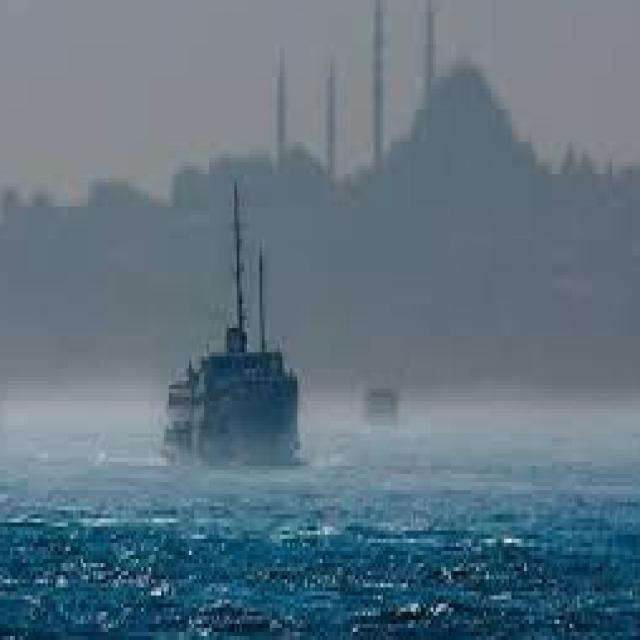fishing boat: (150, 203, 313, 456)
